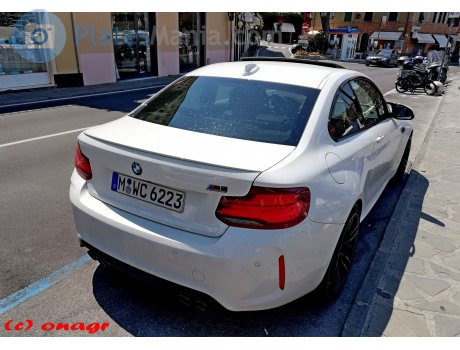License Plates: (112, 174, 184, 204)
